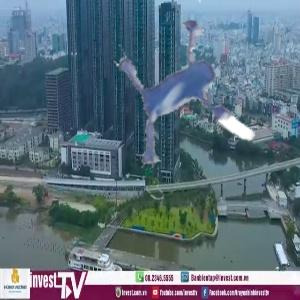drone: (85, 1, 297, 213)
